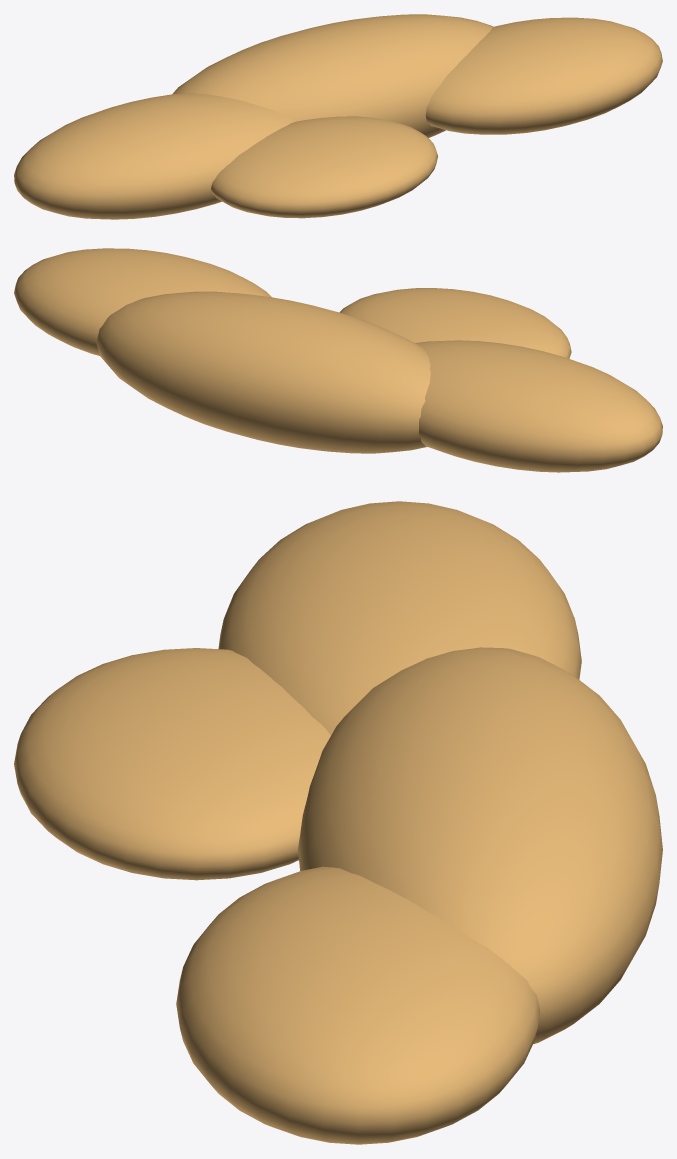
File: dunas.glb
3 views of the same model, one above another, from view 1: azimuth 30°, elevation 25°; view 2: azimuth 150°, elevation 25°; view 3: azimuth 270°, elevation 25° (orthographic). The views are drawn at different scales.
Parts seen in each view (by area): view 1: Sphere, Sphere.001, Sphere.002, Sphere.003; view 2: Sphere.001, Sphere, Sphere.002, Sphere.003; view 3: Sphere.001, Sphere.002, Sphere.003, Sphere.
Boxes of the visible parts, box(x1,y1,x2,y2) form: Sphere: box(14, 93, 295, 219); Sphere.001: box(172, 14, 493, 137); Sphere.002: box(425, 17, 662, 134); Sphere.003: box(211, 116, 437, 218); Sphere.001: box(96, 291, 430, 453); Sphere: box(415, 340, 662, 472); Sphere.002: box(14, 248, 271, 355); Sphere.003: box(339, 288, 571, 358); Sphere.001: box(298, 647, 662, 1044); Sphere.002: box(176, 866, 540, 1144); Sphere.003: box(14, 648, 330, 880); Sphere: box(218, 501, 581, 735).
Bounding box in the file's own units: 7 × 1.2 × 3.2.
